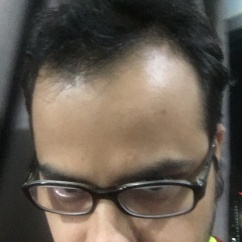glasses: (26, 170, 207, 221)
